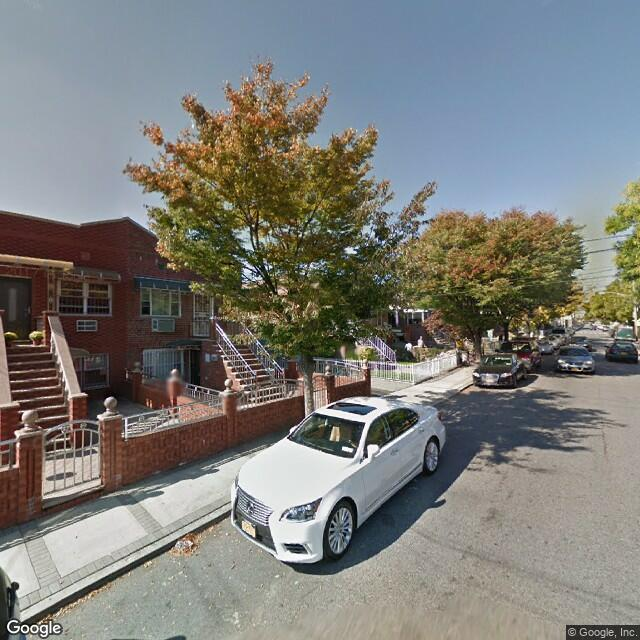litter: (175, 539, 194, 548)
